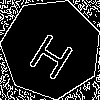H: (26, 24, 81, 82)
